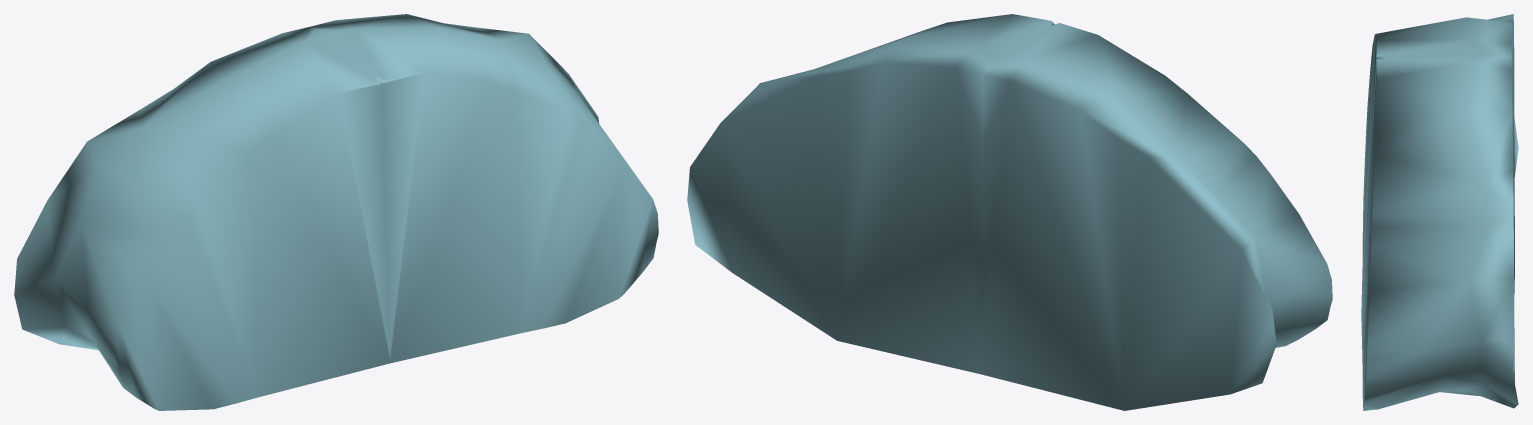
3 renders of one model, left to right at view 1: azimuth 30°, elevation 25°; view 2: azimuth 150°, elevation 25°; view 3: azimuth 270°, elevation 25°, orthographic. The views are drawn at different scales.
Parts seen in each view (by area): view 1: 骶尾联合; view 2: 骶尾联合; view 3: 骶尾联合.
Part boxes in pixels (x1,y1,x2,y2): 骶尾联合: [14, 14, 658, 410]; 骶尾联合: [687, 14, 1332, 410]; 骶尾联合: [1361, 14, 1518, 410].
Bounding box in the file's own units: 0.0316 × 0.0157 × 0.00789.
